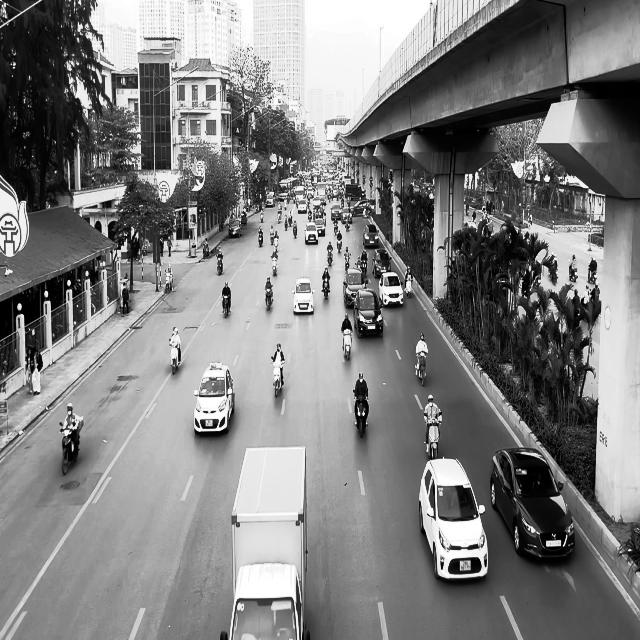car: (490, 446, 575, 560), (418, 456, 488, 582), (220, 562, 309, 639), (193, 361, 235, 435), (353, 288, 383, 338), (343, 268, 368, 307), (378, 271, 404, 307), (291, 277, 315, 314), (371, 248, 392, 278), (363, 223, 379, 247), (304, 222, 318, 244), (228, 219, 241, 237)
motorbike: (59, 415, 82, 475), (423, 410, 442, 459), (352, 390, 368, 437), (271, 356, 284, 397), (415, 352, 427, 386), (169, 340, 180, 375), (342, 328, 352, 360), (321, 277, 330, 299), (265, 286, 273, 310), (222, 294, 230, 318), (271, 253, 278, 276), (216, 254, 223, 275), (405, 277, 412, 298), (258, 230, 263, 247)
truck: (226, 445, 307, 639)
